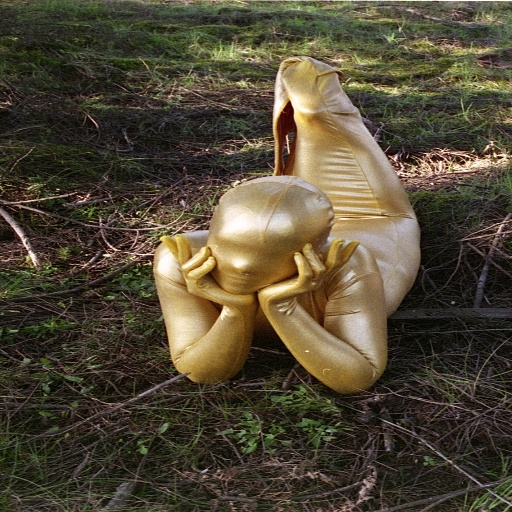hand: (156, 233, 261, 307), (254, 234, 360, 301)
